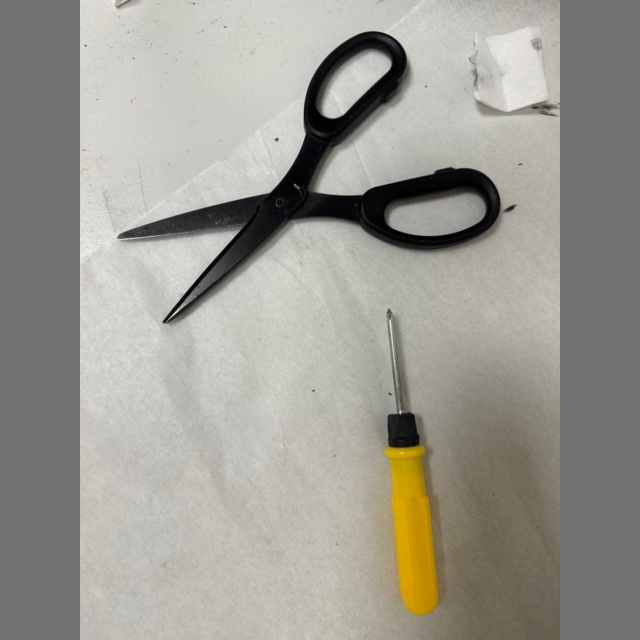scissor: (119, 31, 500, 322)
screwdriver: (386, 309, 438, 615)
